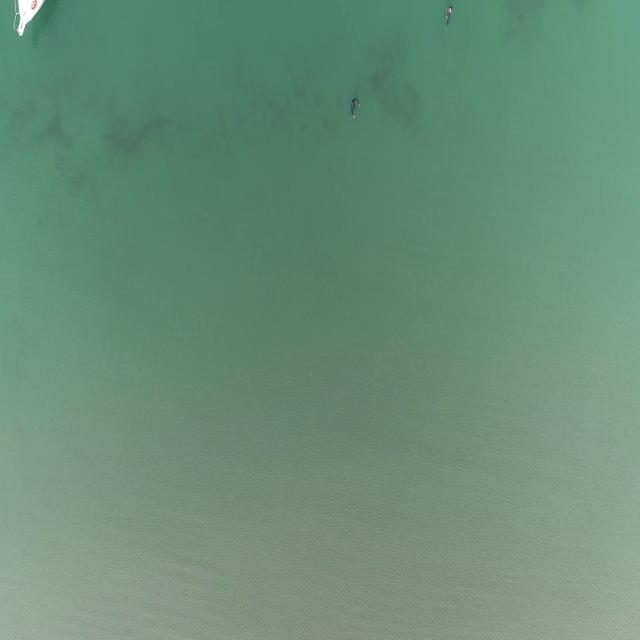person: (348, 97, 362, 120), (443, 6, 455, 28)
